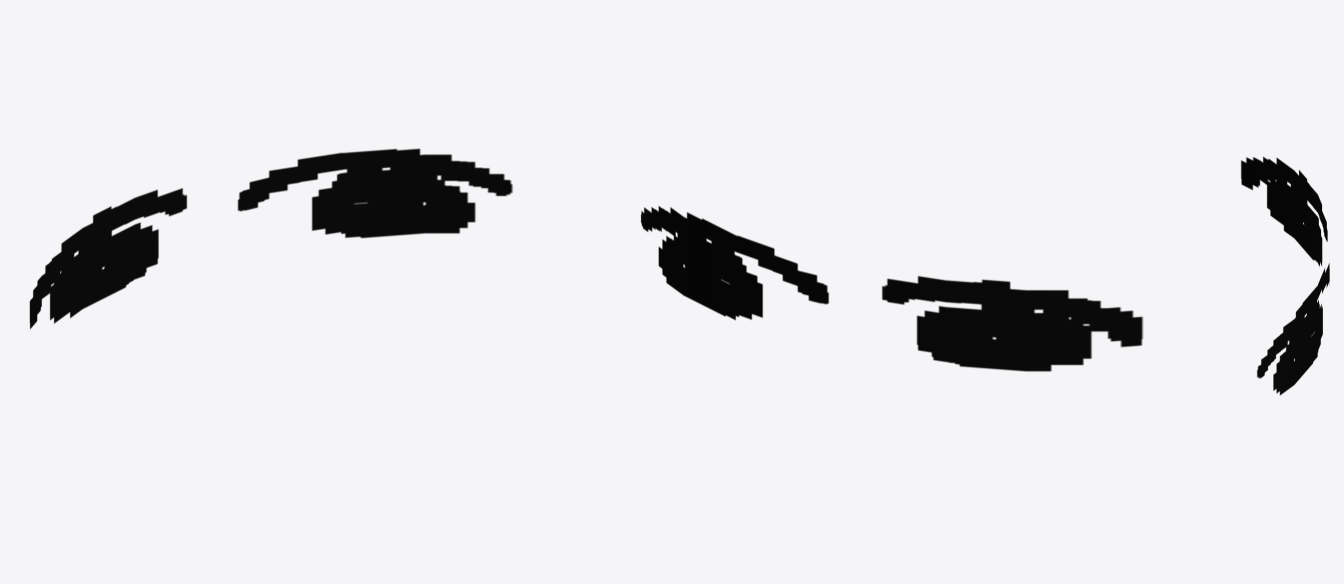
The model's file is 10-Uncanny-stare-eyes.glb.
The picture shows the model from 3 angles, left to right: view 1: azimuth 30°, elevation 25°; view 2: azimuth 150°, elevation 25°; view 3: azimuth 270°, elevation 25°; orthographic projection. The views are drawn at different scales.
Parts seen in each view (by area): view 1: 10-Uncanny-stare-eyes; view 2: 10-Uncanny-stare-eyes; view 3: 10-Uncanny-stare-eyes.
Boxes of the visible parts, x1,y1,x2,y2 form: 10-Uncanny-stare-eyes: (29,148,512,329); 10-Uncanny-stare-eyes: (641,206,1142,371); 10-Uncanny-stare-eyes: (1241,156,1329,395).
Bounding box in the file's own units: 0.8877 × 0.6074 × 0.1815.
Materials: 1 (1 with a texture image).
